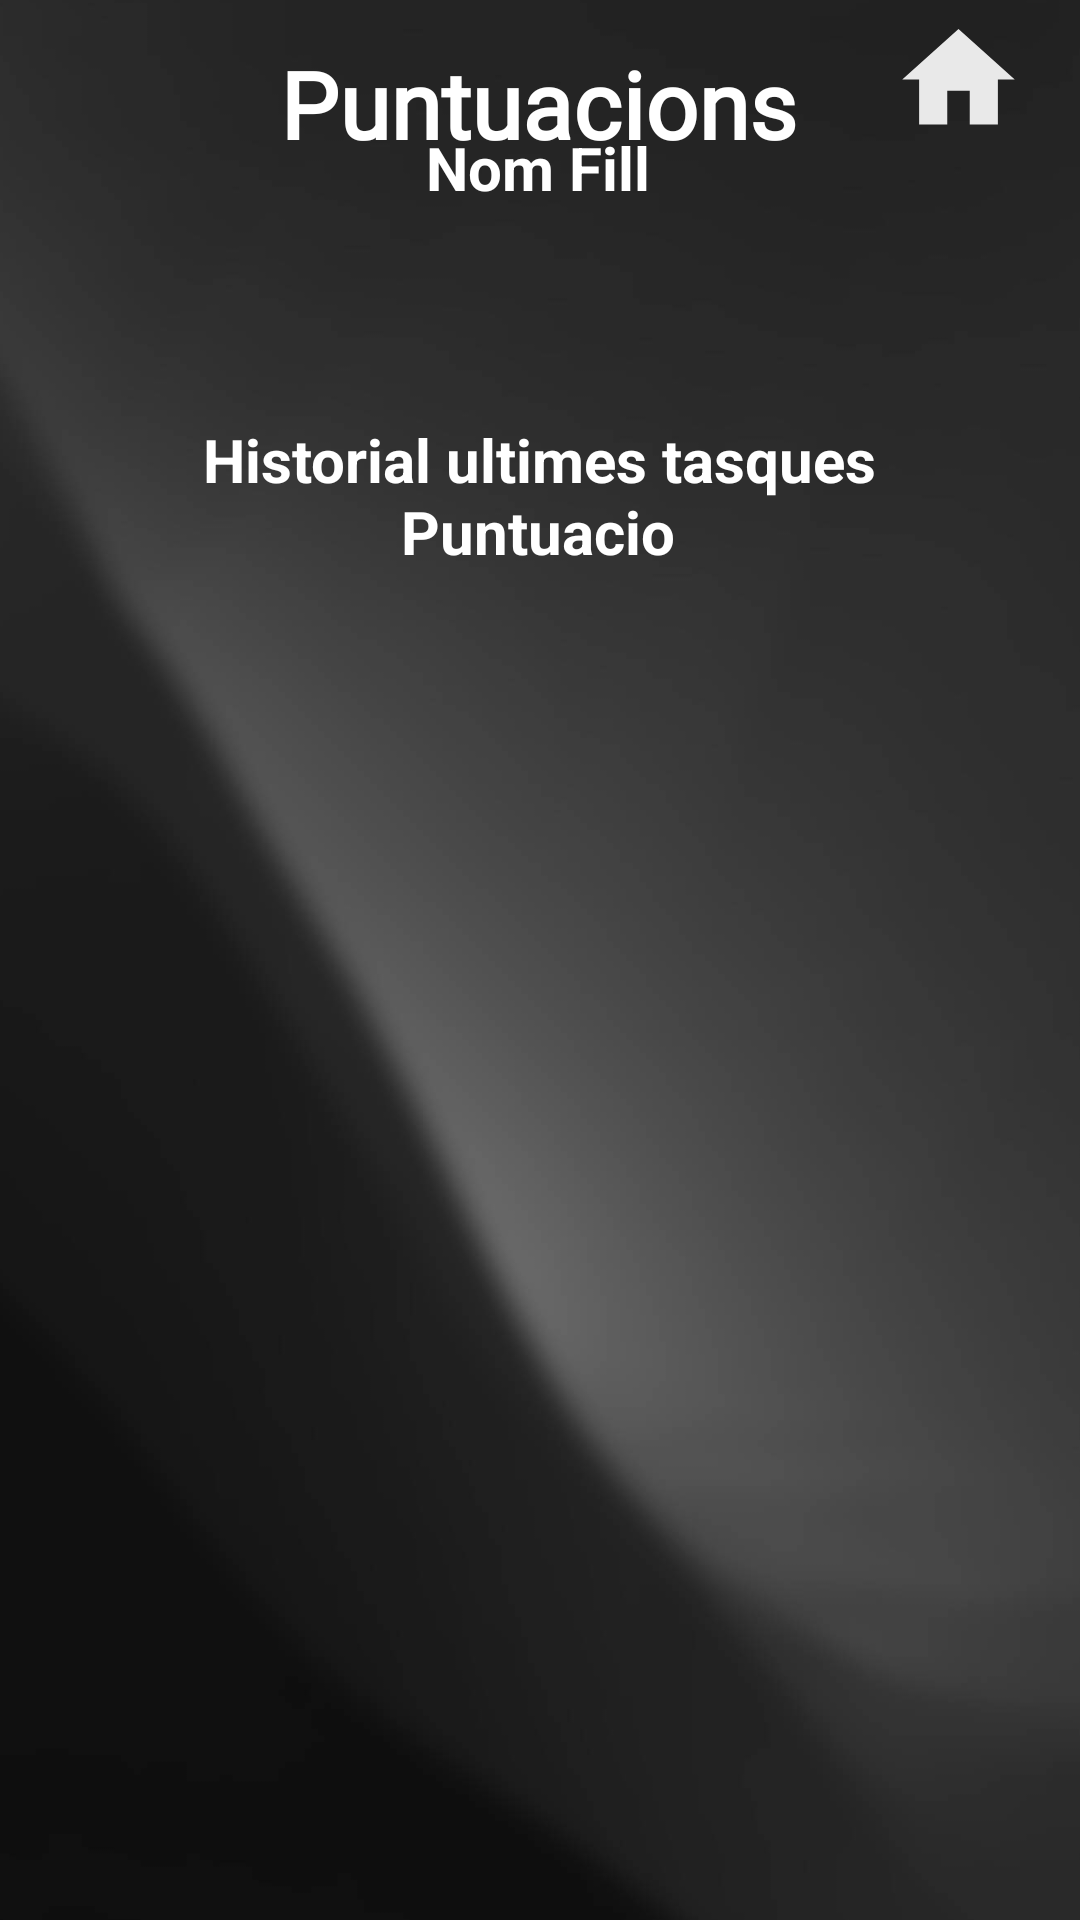

Screen size 1080px×1920px. Icon name, then its center in pixels as [x,y]:
home: [958,77]
